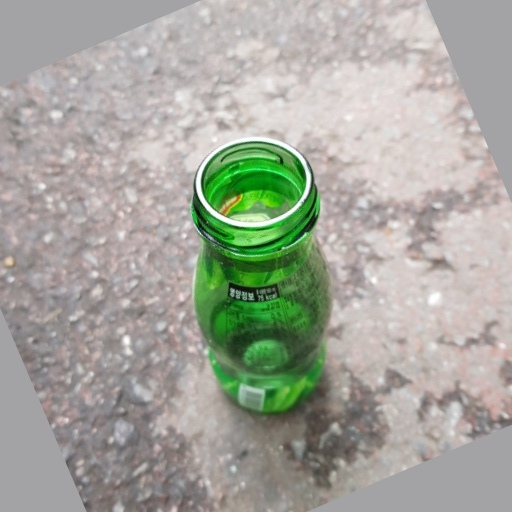Glass_4: (182, 137, 348, 418)
